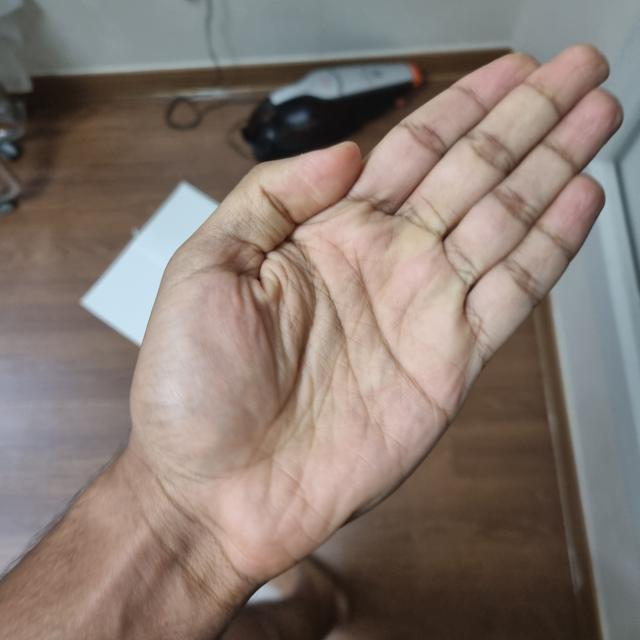Paper: (128, 48, 620, 569)
